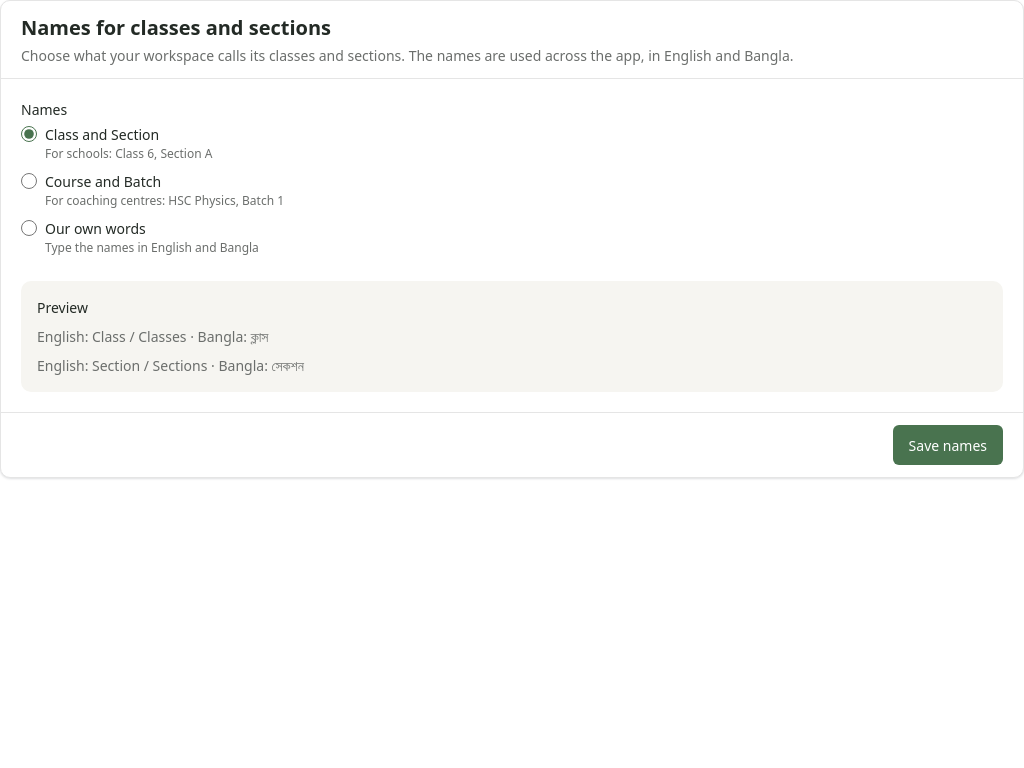
Scenario: level names card (FND-03) › asks for every custom name before saving
Click the radio button labelled "Our own words". click: (29, 228)
box: [21, 220, 37, 236]
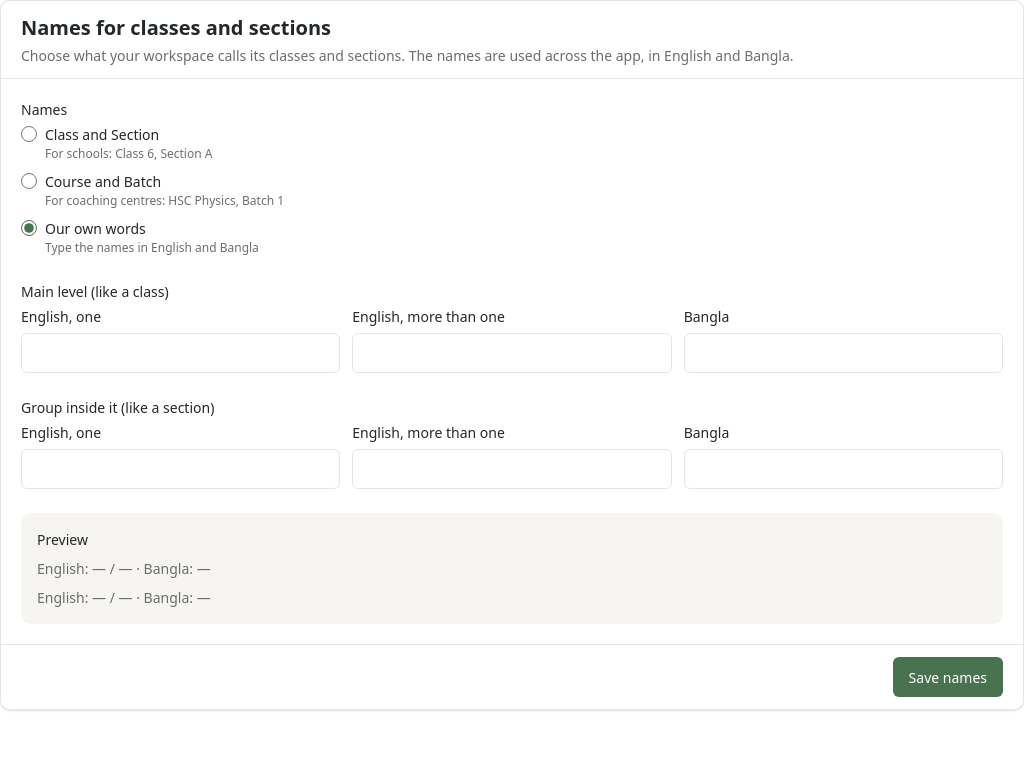
Click the button "Save names". click: (948, 677)
box: [893, 657, 1003, 697]
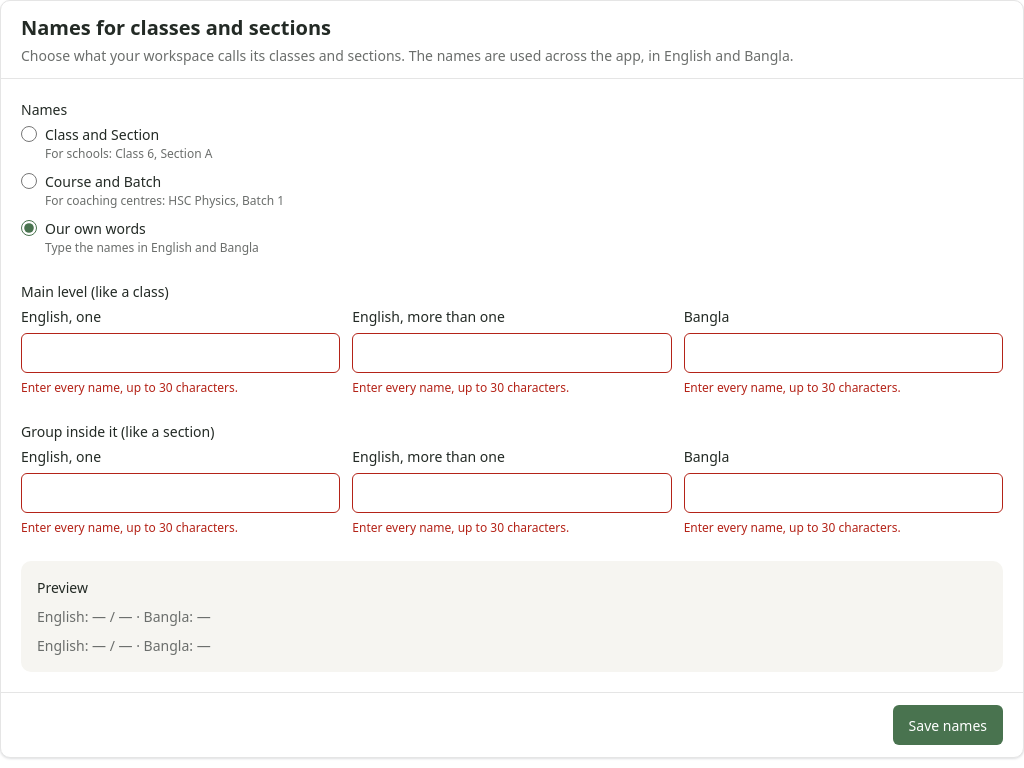
Now the text "Enter every name, up to 30 characters." is shown 6 times, box [21, 379, 238, 396]; [352, 379, 569, 396]; [684, 379, 901, 396]; [21, 519, 238, 536]; [352, 519, 569, 536]; [684, 519, 901, 536]
